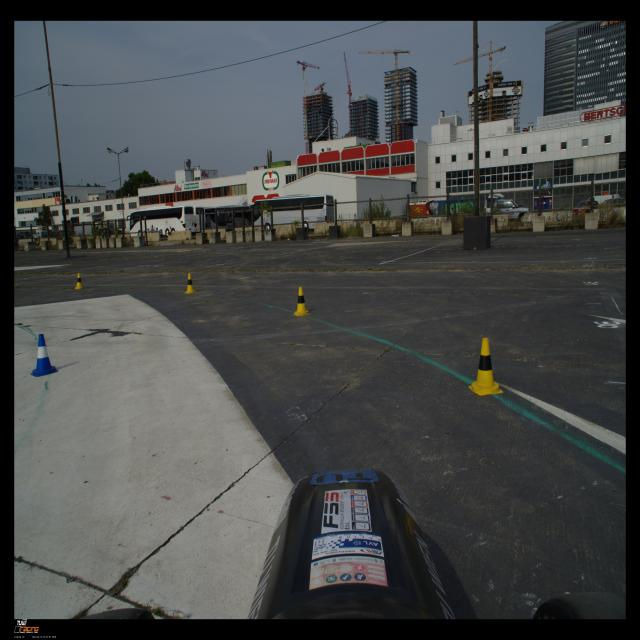blue_cone: (31, 334, 58, 377)
yellow_cone: (468, 338, 504, 396), (293, 287, 310, 316), (184, 273, 197, 294), (74, 272, 85, 290)
